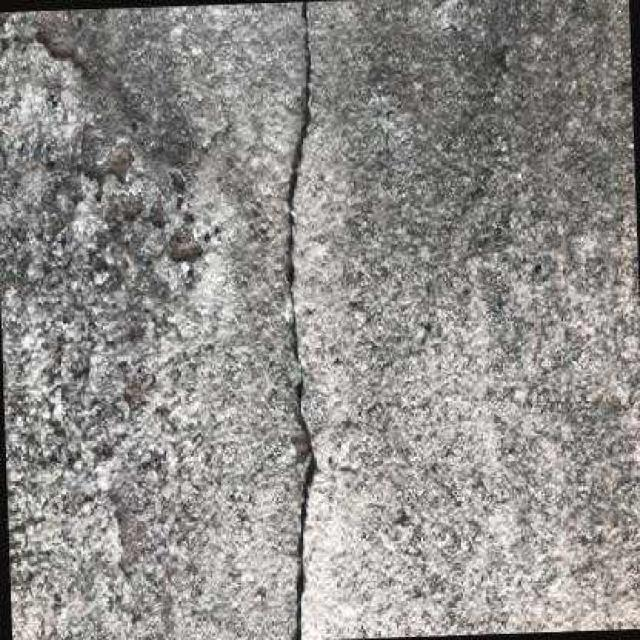D00: (281, 9, 317, 640)
